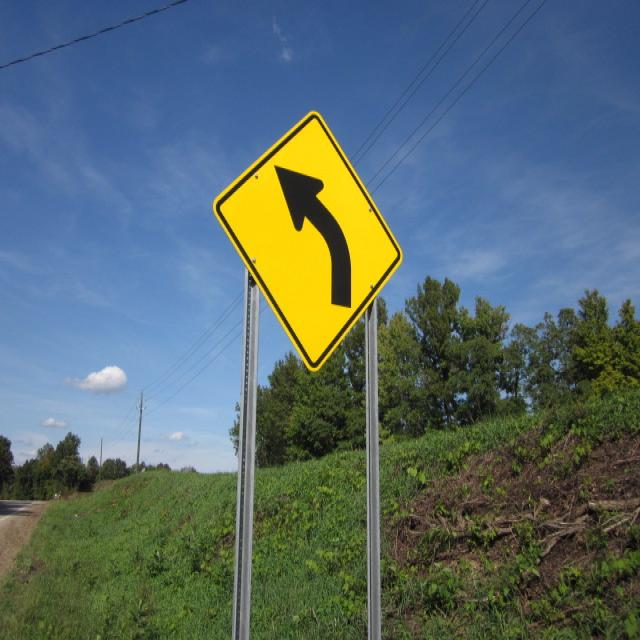warning: (215, 110, 402, 372)
